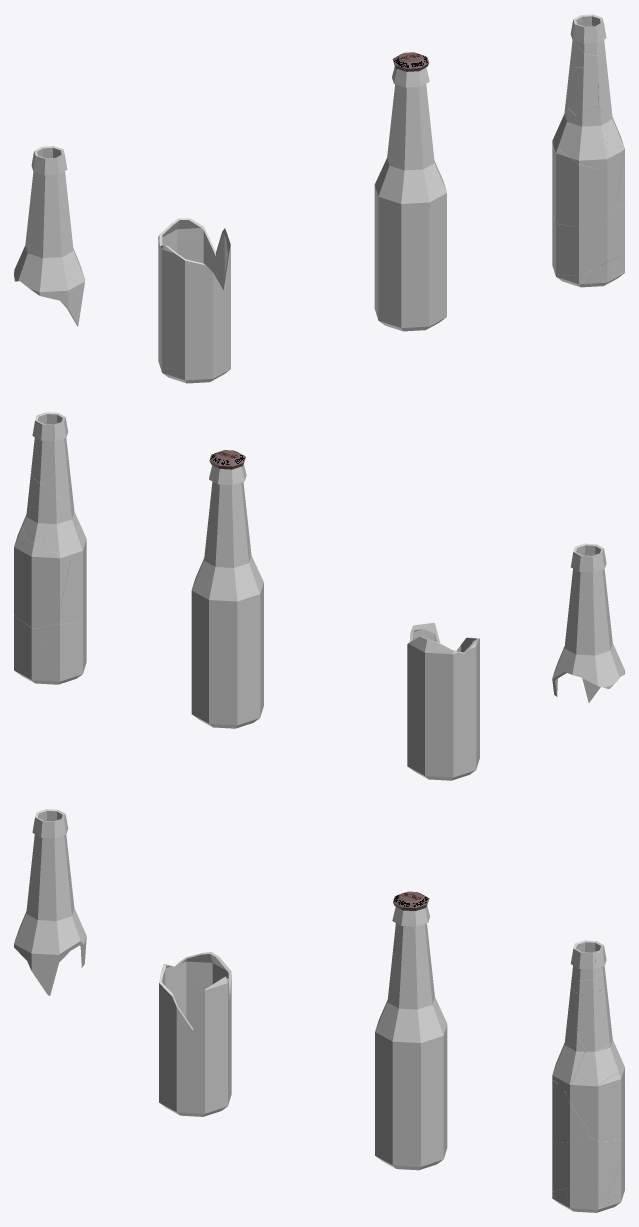
File: GlassBottles.fbx
3 views of the same model, one above another, from view 1: azimuth 30°, elevation 25°; view 2: azimuth 150°, elevation 25°; view 3: azimuth 330°, elevation 25° (orthographic).
Visible parts, largest first — view 1: Bottle, Bottle Butt, Bottle Neck, Bottle_cell.009, Bottle_cell.007, Bottle_cell.005, Bottle_cell.019, Bottle_cell.006, Bottle_cell.011, Bottle_cell.002, Bottle_cell.008, Bottle Cap (+2 smaller); view 2: Bottle, Bottle Butt, Bottle Neck, Bottle_cell.004, Bottle_cell.007, Bottle_cell.014, Bottle_cell.017, Bottle_cell.009, Bottle_cell.002, Bottle_cell.018, Bottle_cell.019, Bottle Cap; view 3: Bottle, Bottle Butt, Bottle Neck, Bottle_cell.007, Bottle_cell.006, Bottle_cell.012, Bottle_cell.008, Bottle_cell.009, Bottle_cell.005, Bottle_cell.011, Bottle_cell.016, Bottle_cell.014 (+2 smaller).
Boxes of the visible parts, x1,y1,x2,y2 form: Bottle: [374, 66, 446, 331]; Bottle Butt: [158, 218, 230, 383]; Bottle Neck: [14, 146, 85, 326]; Bottle_cell.009: [552, 149, 620, 227]; Bottle_cell.007: [552, 203, 624, 276]; Bottle_cell.005: [559, 106, 608, 169]; Bottle_cell.019: [567, 67, 598, 115]; Bottle_cell.006: [600, 117, 624, 194]; Bottle_cell.011: [571, 19, 606, 55]; Bottle_cell.002: [569, 29, 606, 69]; Bottle_cell.008: [598, 60, 612, 120]; Bottle Cap: [392, 52, 428, 71]; Bottle: [191, 464, 263, 728]; Bottle Butt: [407, 623, 479, 780]; Bottle Neck: [552, 543, 624, 702]; Bottle_cell.004: [14, 540, 70, 628]; Bottle_cell.007: [36, 606, 86, 682]; Bottle_cell.014: [14, 615, 63, 684]; Bottle_cell.017: [43, 492, 81, 557]; Bottle_cell.009: [56, 543, 86, 624]; Bottle_cell.002: [31, 436, 68, 483]; Bottle_cell.018: [22, 480, 50, 545]; Bottle_cell.019: [44, 456, 72, 505]; Bottle Cap: [209, 450, 245, 469]; Bottle: [375, 905, 447, 1170]; Bottle Butt: [159, 952, 231, 1116]; Bottle Neck: [14, 809, 86, 995]; Bottle_cell.007: [552, 1137, 622, 1194]; Bottle_cell.006: [565, 1044, 624, 1126]; Bottle_cell.012: [586, 1072, 622, 1141]; Bottle_cell.008: [576, 990, 609, 1051]; Bottle_cell.009: [552, 1062, 590, 1142]; Bottle_cell.005: [552, 1031, 585, 1092]; Bottle_cell.011: [570, 940, 595, 981]; Bottle_cell.016: [553, 1189, 608, 1210]; Bottle_cell.014: [606, 1135, 624, 1209].
Size of the model in its own units: 1158 by 481 by 125.
2 materials, 1 textured.
